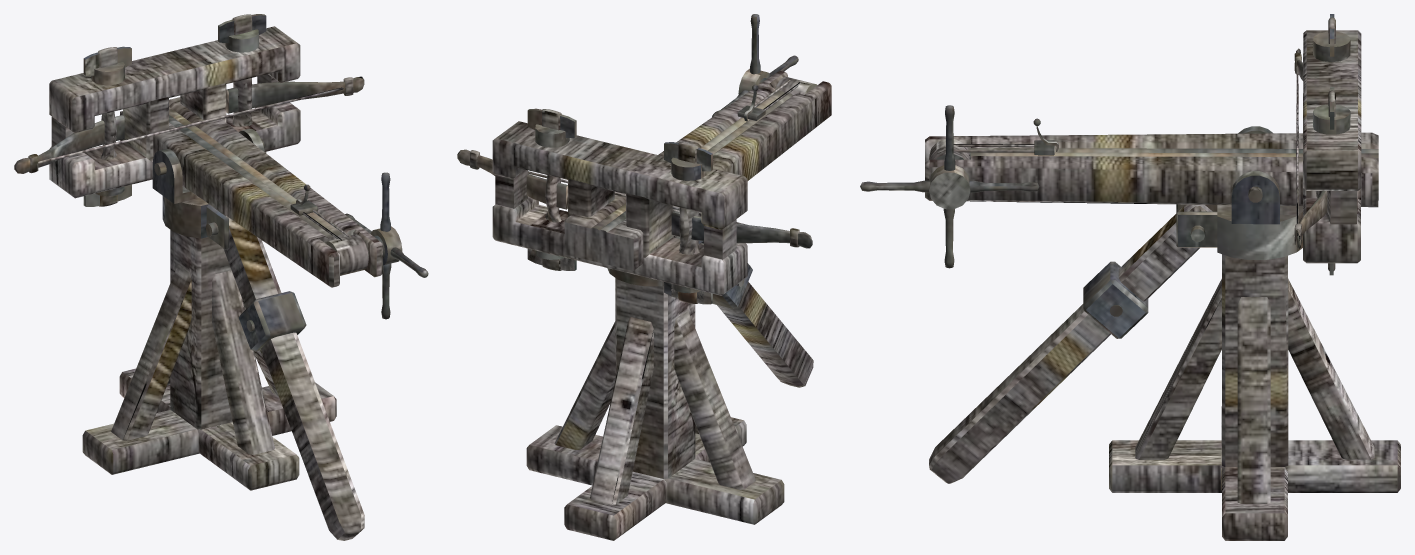
3 views of the same model, side by side, from view 1: azimuth 30°, elevation 25°; view 2: azimuth 150°, elevation 25°; view 3: azimuth 270°, elevation 25° (orthographic). The views are drawn at different scales.
Parts seen in each view (by area): view 1: mesh_0; view 2: mesh_0; view 3: mesh_0.
Part boxes in pixels (<box>): mesh_0: <box>14,14,428,540</box>; mesh_0: <box>457,14,831,540</box>; mesh_0: <box>860,14,1400,540</box>.
Bounding box in the file's own units: 60.21 × 62.61 × 72.5.
Materials: 1 (1 with a texture image).
